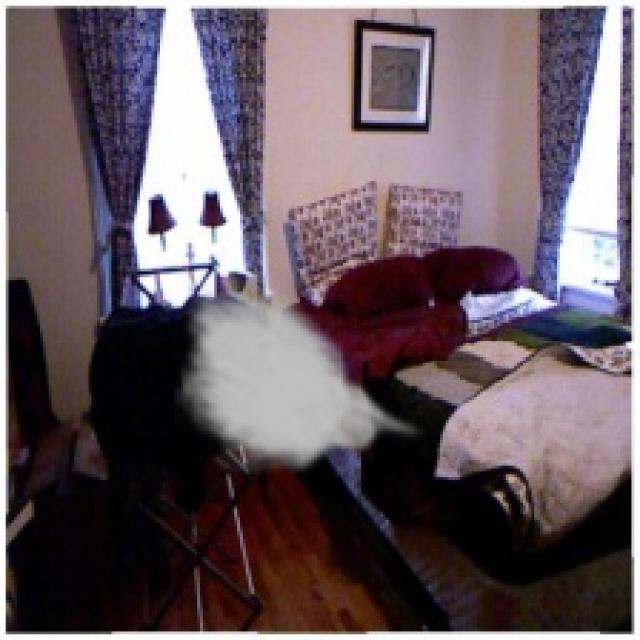smoke: (174, 277, 429, 477)
